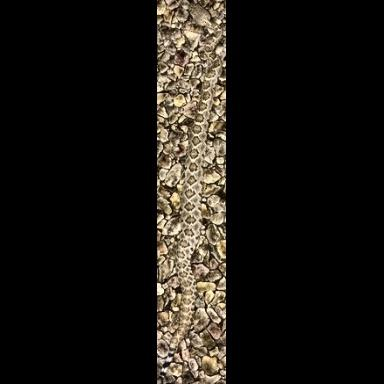snake: (157, 0, 226, 384)
